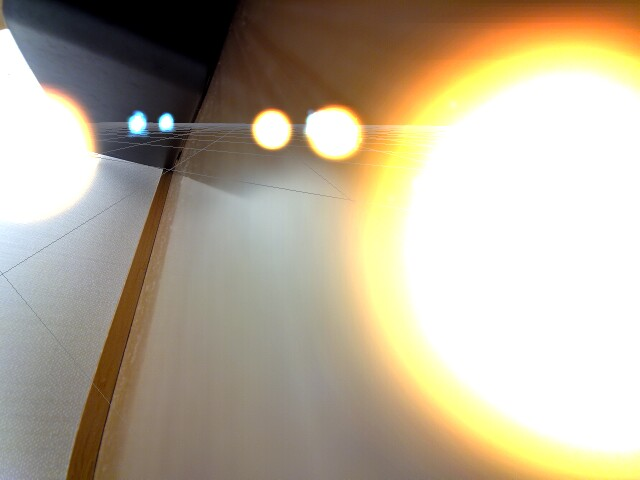firebig: (372, 27, 640, 478)
